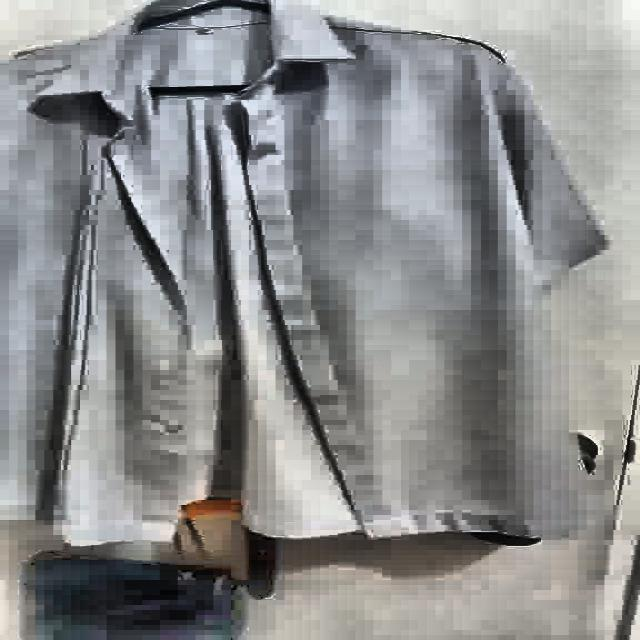clothes: (0, 0, 616, 546)
